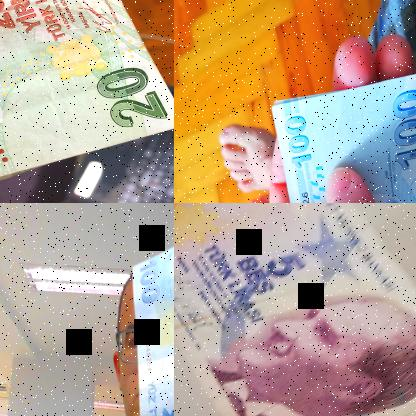5 TL: (0, 0, 173, 183)
